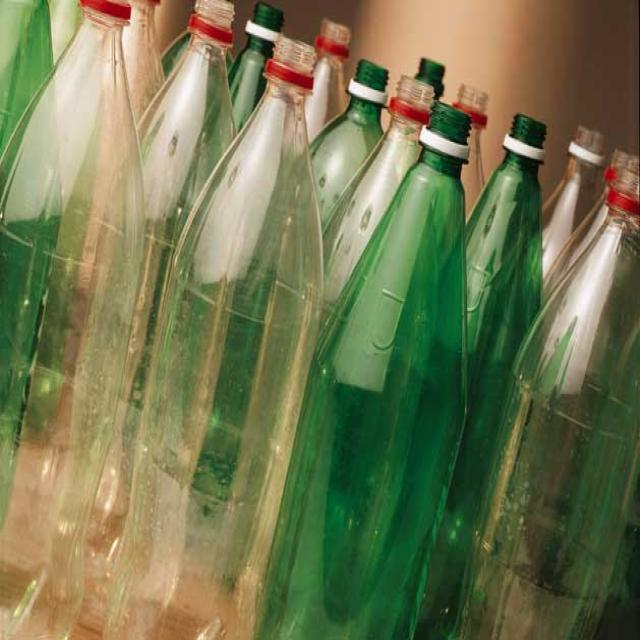bottle: (105, 38, 322, 638), (256, 104, 470, 638), (75, 0, 235, 637), (0, 0, 144, 637), (458, 204, 640, 638), (416, 114, 546, 638), (322, 76, 434, 317), (310, 97, 381, 224), (544, 126, 605, 272), (305, 19, 351, 141), (452, 85, 489, 213)
